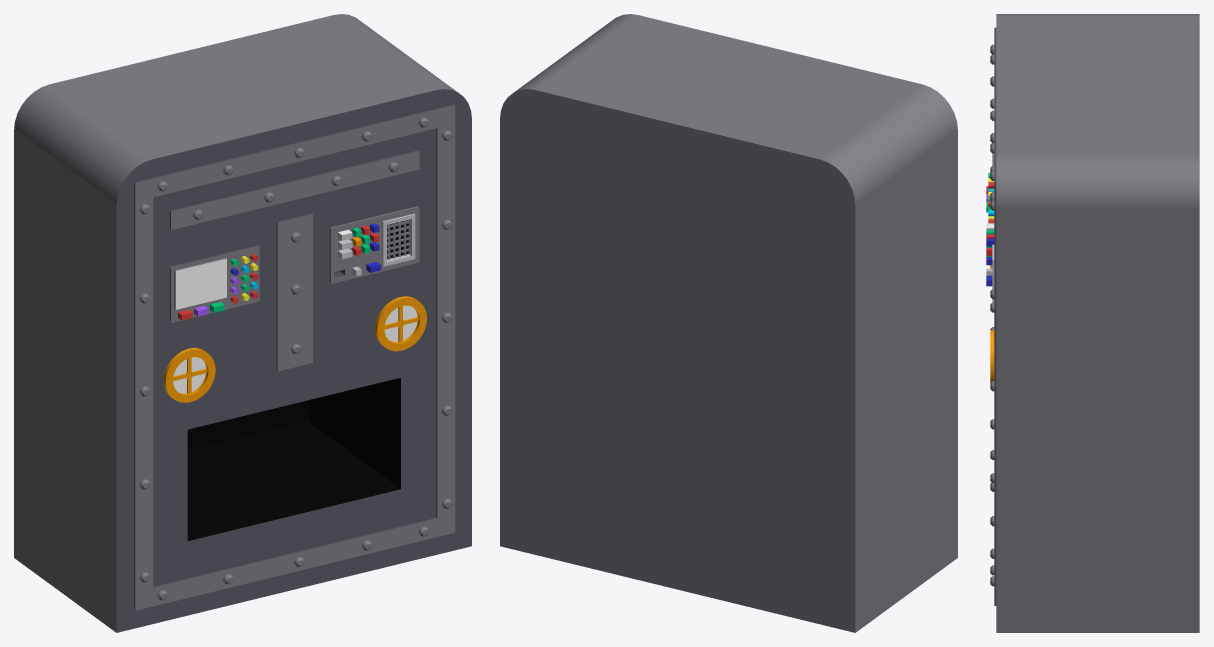
Rendered from vending_machine.gltf.
3 renders of one model, left to right at view 1: azimuth 30°, elevation 25°; view 2: azimuth 150°, elevation 25°; view 3: azimuth 270°, elevation 25°, orthographic.
Visible parts, largest first — view 1: Housing, Left Circle, Right Circle, SOLID; view 2: Housing; view 3: Housing.
Part boxes in pixels (x1,y1,x2,y2): Housing: (14,14,471,632); Left Circle: (164,348,215,402); Right Circle: (375,296,426,351); SOLID: (382,213,415,266); Housing: (500,14,957,632); Housing: (992,14,1199,632).
Bounding box in the file's own units: 2 × 2.5 × 1.05.
